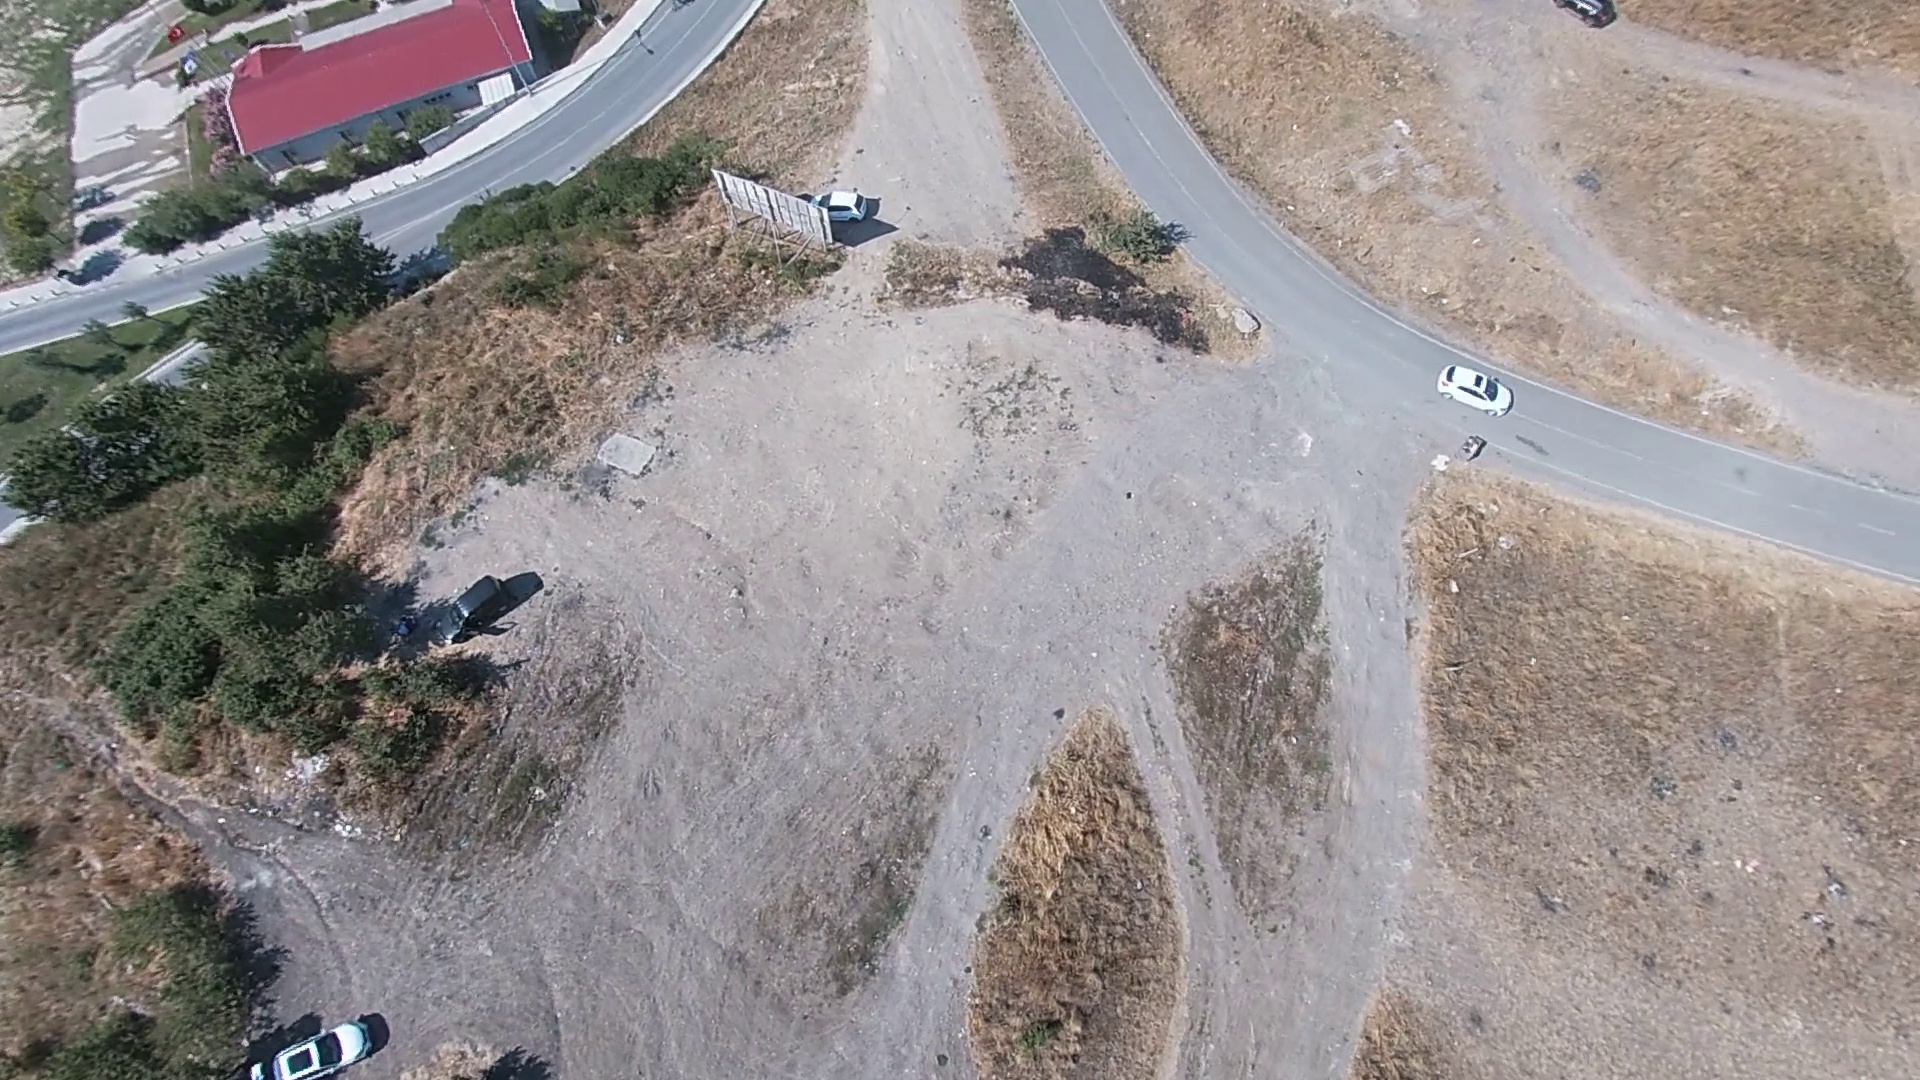araba: (444, 568, 512, 638), (1436, 357, 1515, 414), (815, 181, 885, 225)
